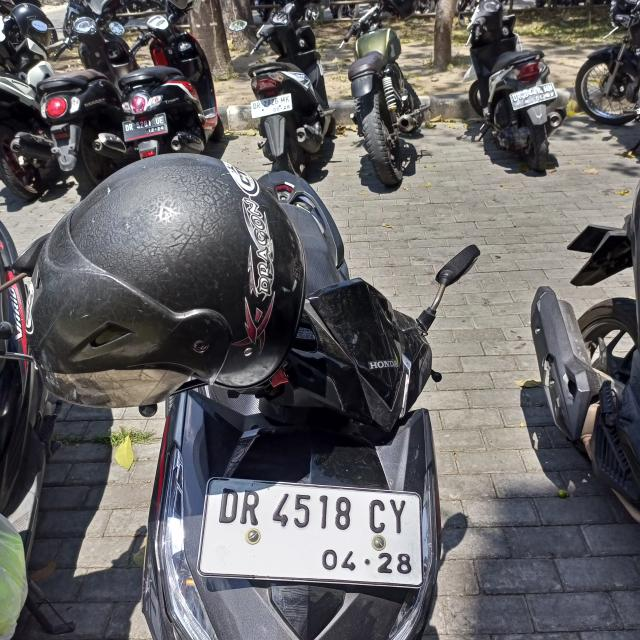plate: (201, 474, 426, 592), (122, 111, 169, 143), (251, 92, 292, 119)
